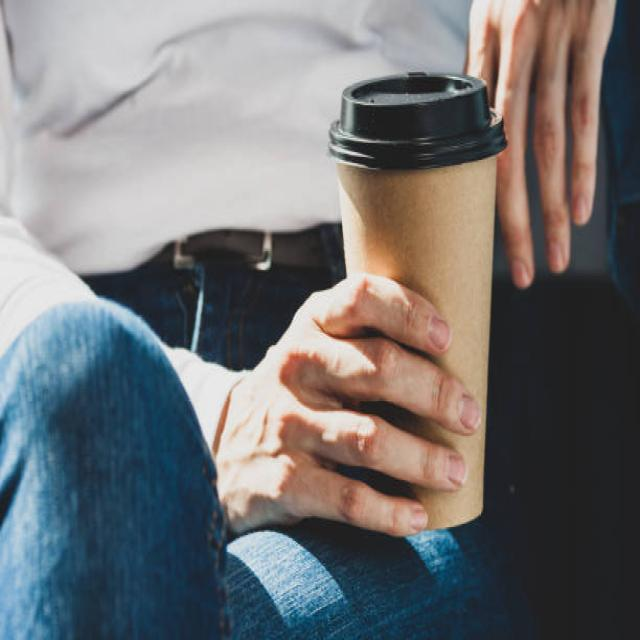cup: (325, 69, 510, 537)
